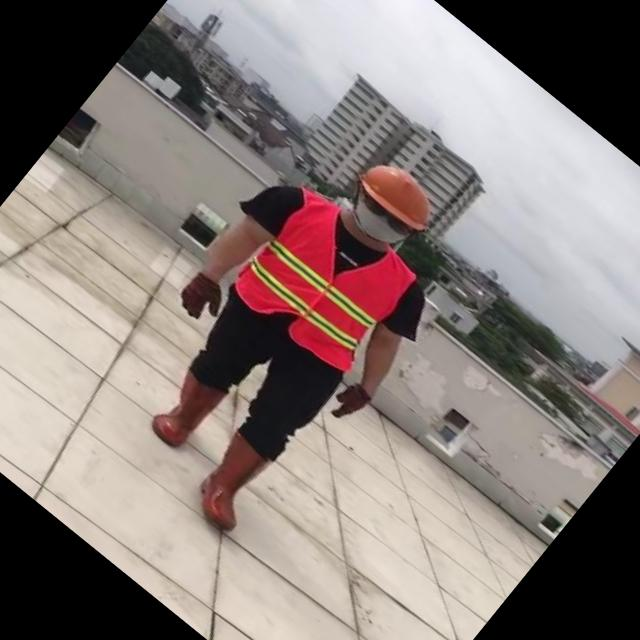hard_hat: (353, 150, 448, 239)
safety_vest: (227, 184, 422, 376)
vehicle: (69, 103, 503, 563)
work_boots: (178, 425, 292, 541), (140, 366, 222, 454)
